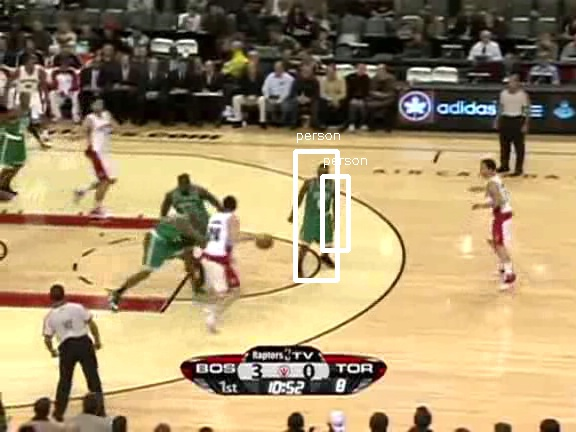person: (304, 171, 338, 252), (303, 171, 337, 252), (305, 171, 339, 252), (304, 170, 338, 251), (304, 172, 338, 253)
target_negative: (194, 60, 553, 421), (142, 292, 575, 406), (265, 14, 575, 95), (257, 275, 293, 401), (433, 300, 532, 317)
